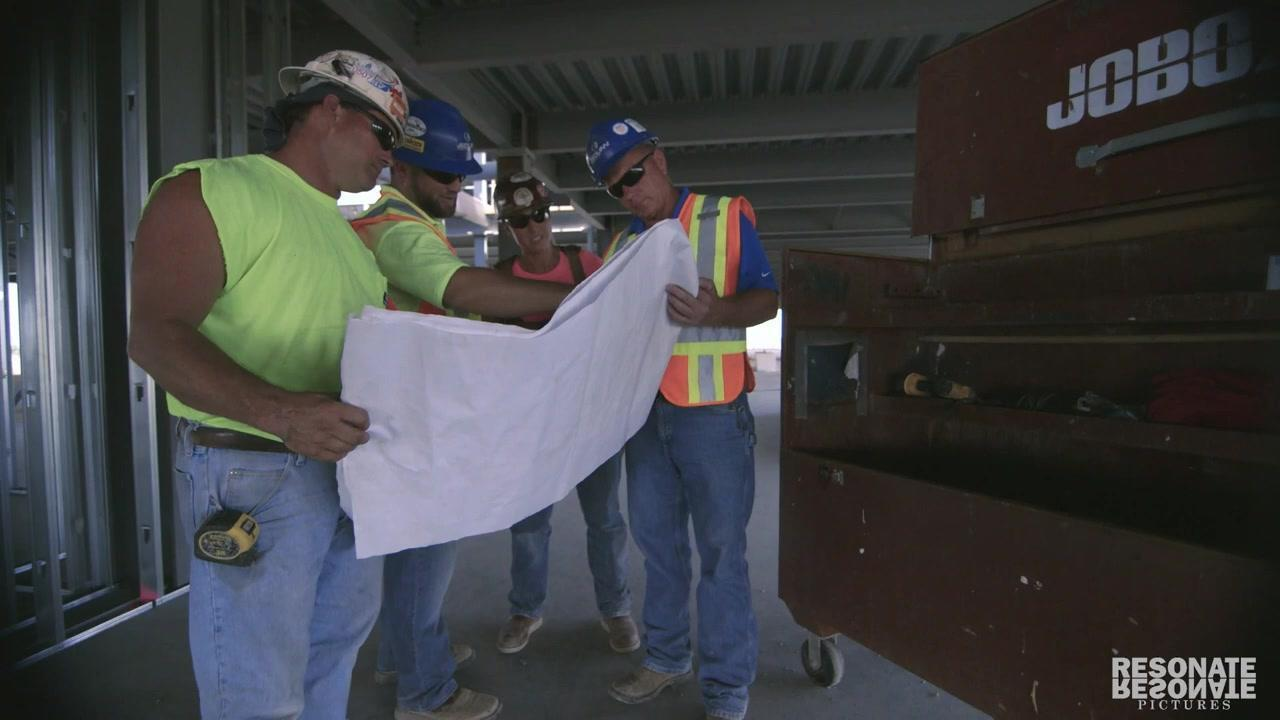vest: (603, 189, 762, 402), (353, 186, 462, 316)
